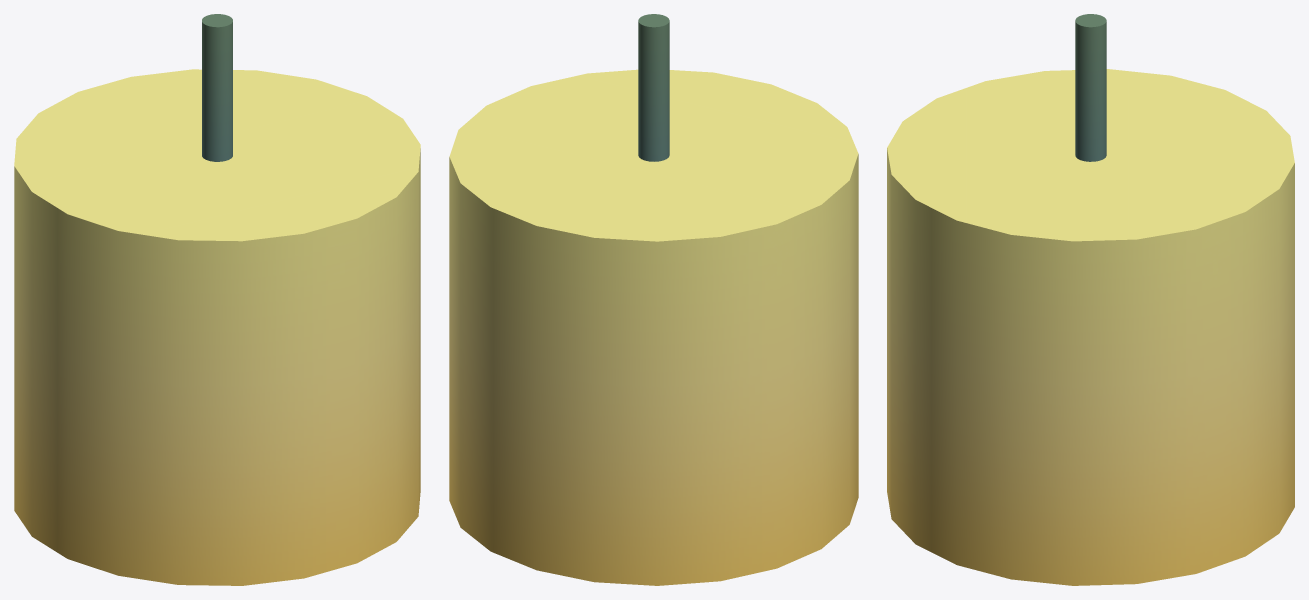
File: SM_Candle_03.fbx
3 views of the same model, side by side, from view 1: azimuth 30°, elevation 25°; view 2: azimuth 150°, elevation 25°; view 3: azimuth 270°, elevation 25° (orthographic).
Parts seen in each view (by area): view 1: SM_Candle_03; view 2: SM_Candle_03; view 3: SM_Candle_03.
Boxes of the visible parts, x1,y1,x2,y2 form: SM_Candle_03: (14,14,420,585); SM_Candle_03: (449,14,858,585); SM_Candle_03: (887,14,1294,585).
Bounding box in the file's own units: 16.43 × 21.3 × 16.43.
